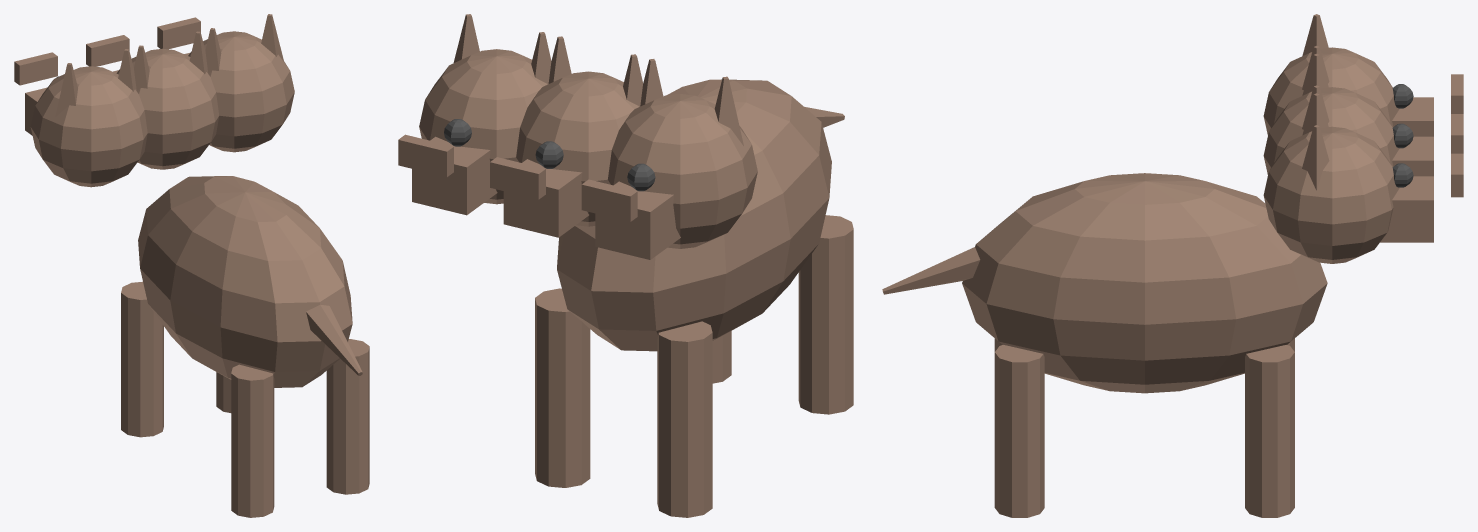
The model's file is cerberus.glb.
3 views of the same model, side by side, from view 1: azimuth 30°, elevation 25°; view 2: azimuth 150°, elevation 25°; view 3: azimuth 270°, elevation 25° (orthographic). The views are drawn at different scales.
Parts seen in each view (by area): view 1: cerberus_body, cerberus_head_kiri, cerberus_head_kanan, cerberus_head, cerberus_leg_BL, cerberus_leg_FL, cerberus_leg_BR, cerberus_tail, cerberus_kiri_alis, cerberus_kanan_alis, cerberus__alis, cerberus_head_kiri_telinga-1 (+7 smaller); view 2: cerberus_body, cerberus_head_kiri, cerberus_leg_FL, cerberus_leg_FR, cerberus_leg_BL, cerberus_head_kanan, cerberus_head, cerberus_head_kiri_moncong, cerberus_head_moncong, cerberus_head_kanan_moncong, cerberus_kiri_alis, cerberus__alis (+11 smaller); view 3: cerberus_body, cerberus_head_kanan, cerberus_leg_BR, cerberus_leg_FR, cerberus_head_kiri, cerberus_head, cerberus_head_kanan_moncong, cerberus_tail, cerberus_head_moncong, cerberus_head_kiri_moncong, cerberus_head_kanan_telinga1.
Boxes of the visible parts, bbox=[...] form: cerberus_body: bbox=[138, 176, 352, 387]; cerberus_head_kiri: bbox=[30, 66, 147, 187]; cerberus_head_kanan: bbox=[188, 31, 294, 152]; cerberus_head: bbox=[116, 48, 219, 169]; cerberus_leg_BL: bbox=[231, 364, 274, 517]; cerberus_leg_FL: bbox=[121, 281, 163, 437]; cerberus_leg_BR: bbox=[326, 339, 369, 494]; cerberus_tail: bbox=[306, 304, 362, 375]; cerberus_kiri_alis: bbox=[14, 52, 57, 85]; cerberus_kanan_alis: bbox=[157, 17, 200, 49]; cerberus__alis: bbox=[86, 35, 129, 66]; cerberus_head_kiri_telinga-1: bbox=[55, 63, 77, 116]; cerberus_body: bbox=[557, 79, 831, 351]; cerberus_head_kiri: bbox=[607, 94, 757, 248]; cerberus_leg_FL: bbox=[657, 321, 712, 517]; cerberus_leg_FR: bbox=[535, 288, 590, 487]; cerberus_leg_BL: bbox=[798, 215, 853, 414]; cerberus_head_kanan: bbox=[419, 49, 547, 204]; cerberus_head: bbox=[516, 71, 639, 226]; cerberus_head_kiri_moncong: bbox=[595, 181, 680, 259]; cerberus_head_moncong: bbox=[503, 159, 588, 237]; cerberus_head_kanan_moncong: bbox=[412, 136, 497, 215]; cerberus_kiri_alis: bbox=[581, 179, 637, 221]; cerberus__alis: bbox=[490, 157, 545, 199]; cerberus_body: bbox=[962, 173, 1327, 393]; cerberus_head_kanan: bbox=[1263, 126, 1399, 263]; cerberus_leg_BR: bbox=[994, 345, 1044, 517]; cerberus_leg_FR: bbox=[1245, 345, 1294, 517]; cerberus_head_kiri: bbox=[1263, 47, 1399, 134]; cerberus_head: bbox=[1263, 87, 1399, 174]; cerberus_head_kanan_moncong: bbox=[1380, 176, 1433, 242]; cerberus_tail: bbox=[882, 247, 980, 294]; cerberus_head_moncong: bbox=[1392, 136, 1433, 176]; cerberus_head_kiri_moncong: bbox=[1392, 97, 1433, 136]; cerberus_head_kanan_telinga1: bbox=[1302, 125, 1329, 190].
Size of the model in its own units: 1.04 by 1.45 by 1.86.
